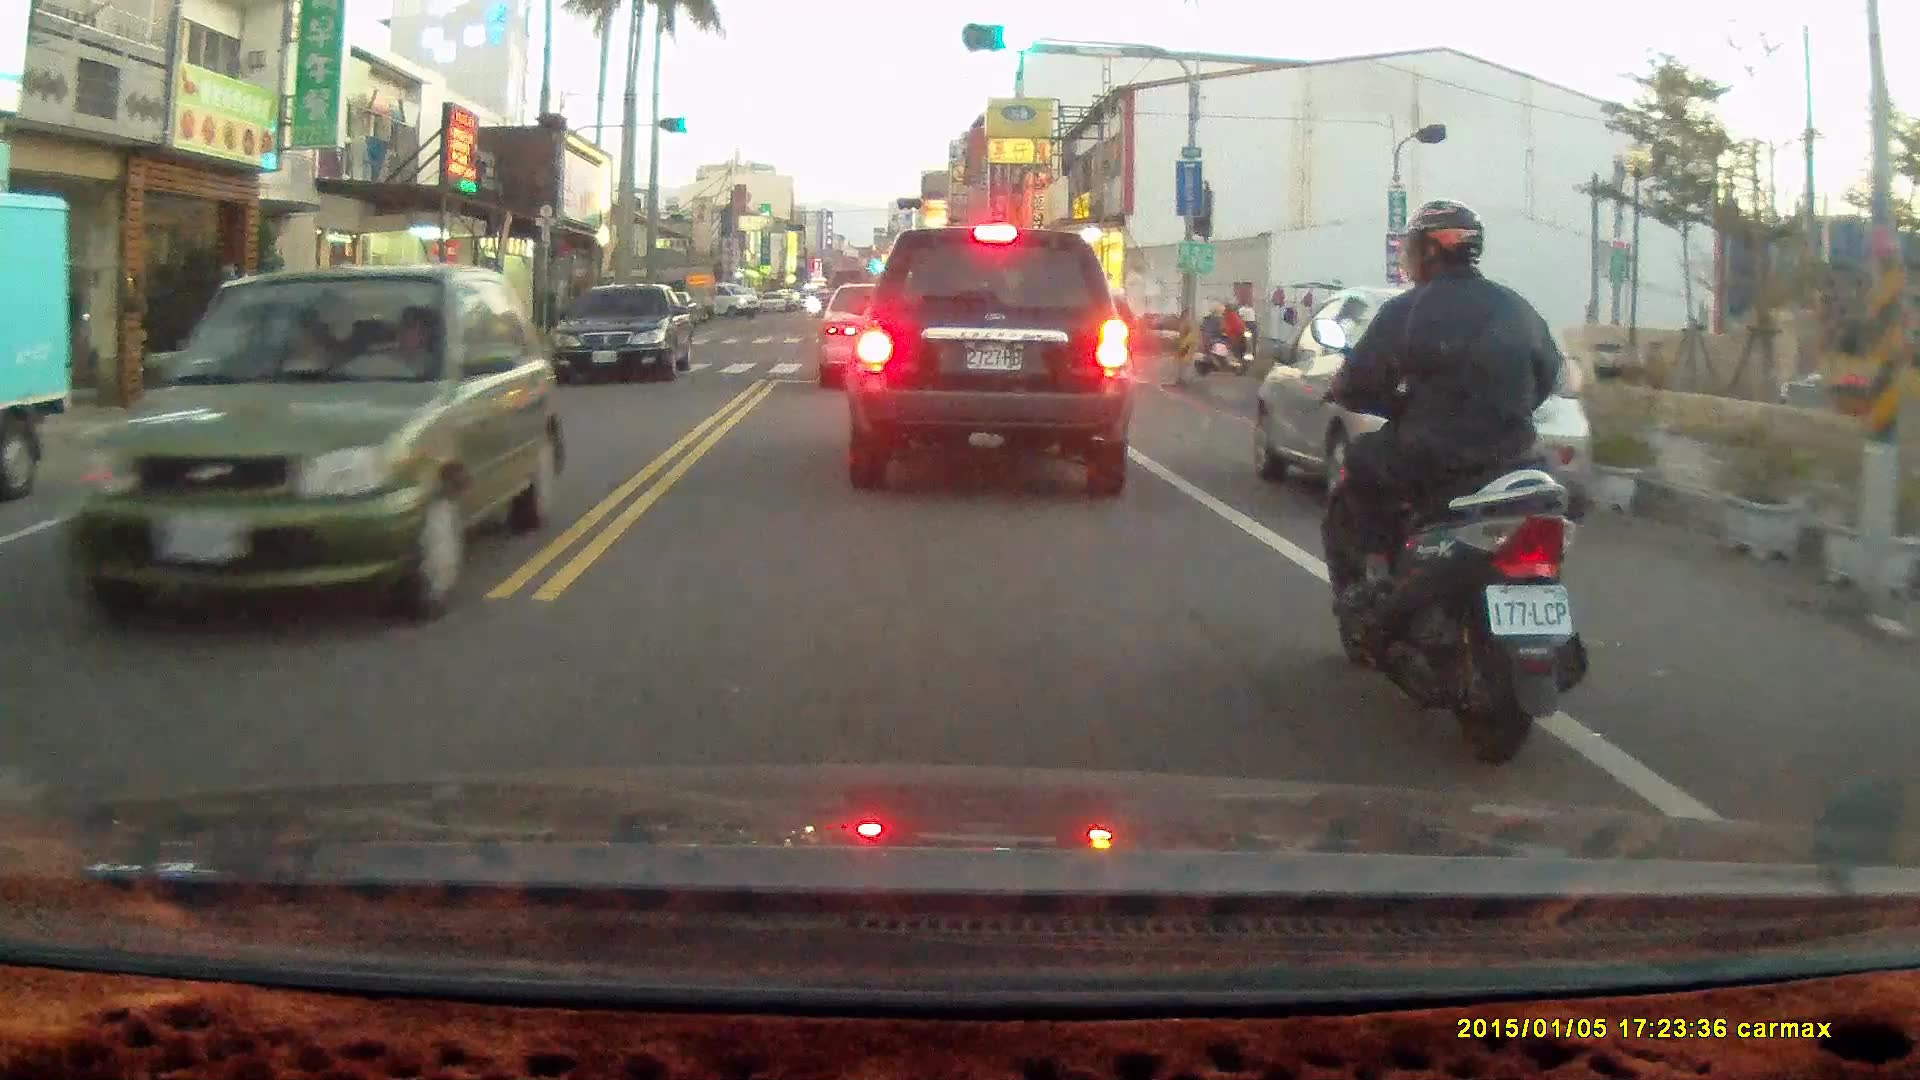pedestrian: (1232, 295, 1258, 362)
rider: (1311, 200, 1590, 771), (1193, 295, 1252, 375)
vehicle: (71, 263, 547, 636), (1247, 289, 1599, 540), (850, 223, 1134, 500), (1, 191, 77, 502), (556, 283, 698, 388), (818, 283, 940, 397)
